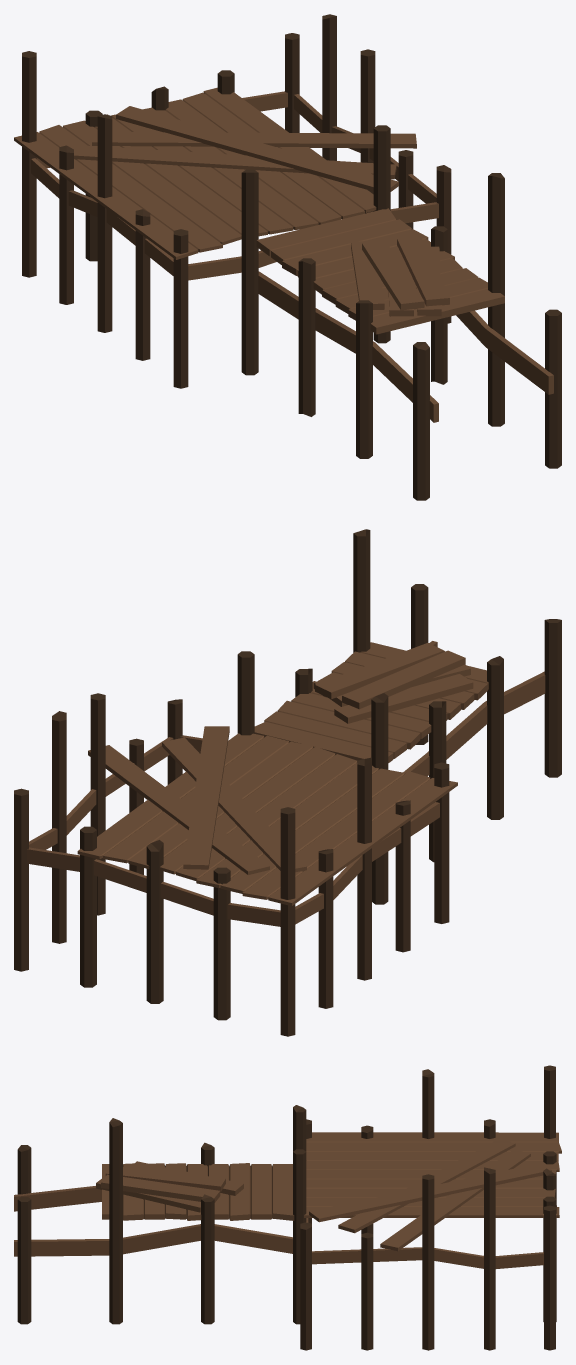
Rendered from fishery_build_mat.fbx.
The picture shows the model from 3 angles, top to bottom: view 1: azimuth 30°, elevation 25°; view 2: azimuth 150°, elevation 25°; view 3: azimuth 270°, elevation 25°; orthographic projection. The views are drawn at different scales.
Parts seen in each view (by area): view 1: fishery_build_mat; view 2: fishery_build_mat; view 3: fishery_build_mat.
Part boxes in pixels (x1,y1,x2,y2): fishery_build_mat: [14, 14, 561, 500]; fishery_build_mat: [14, 529, 561, 1036]; fishery_build_mat: [14, 1065, 561, 1350].
Bounding box in the file's own units: 349 × 277 × 682.
